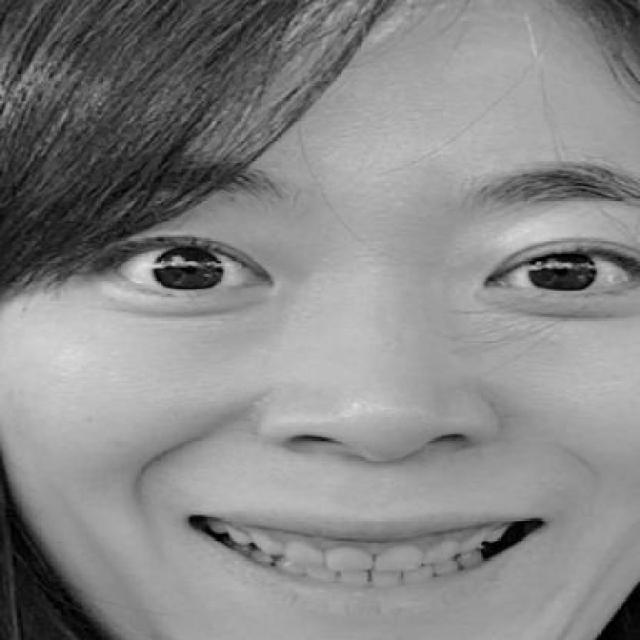happy: (23, 145, 640, 610)
